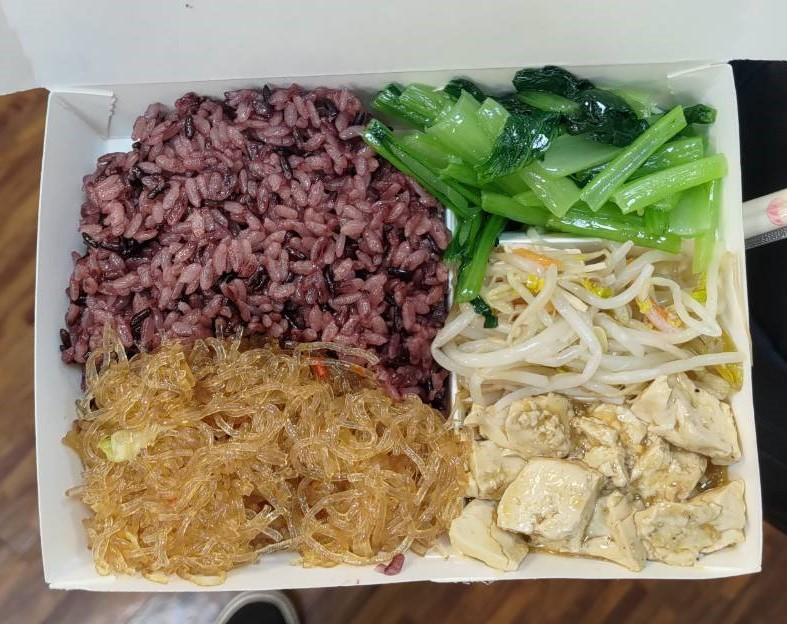big grilled chicken leg: (6, 62, 778, 609)
braised fish: (62, 82, 454, 411)
braised fish fillet: (49, 357, 467, 566), (451, 393, 749, 571), (388, 83, 717, 233), (434, 245, 730, 403)
